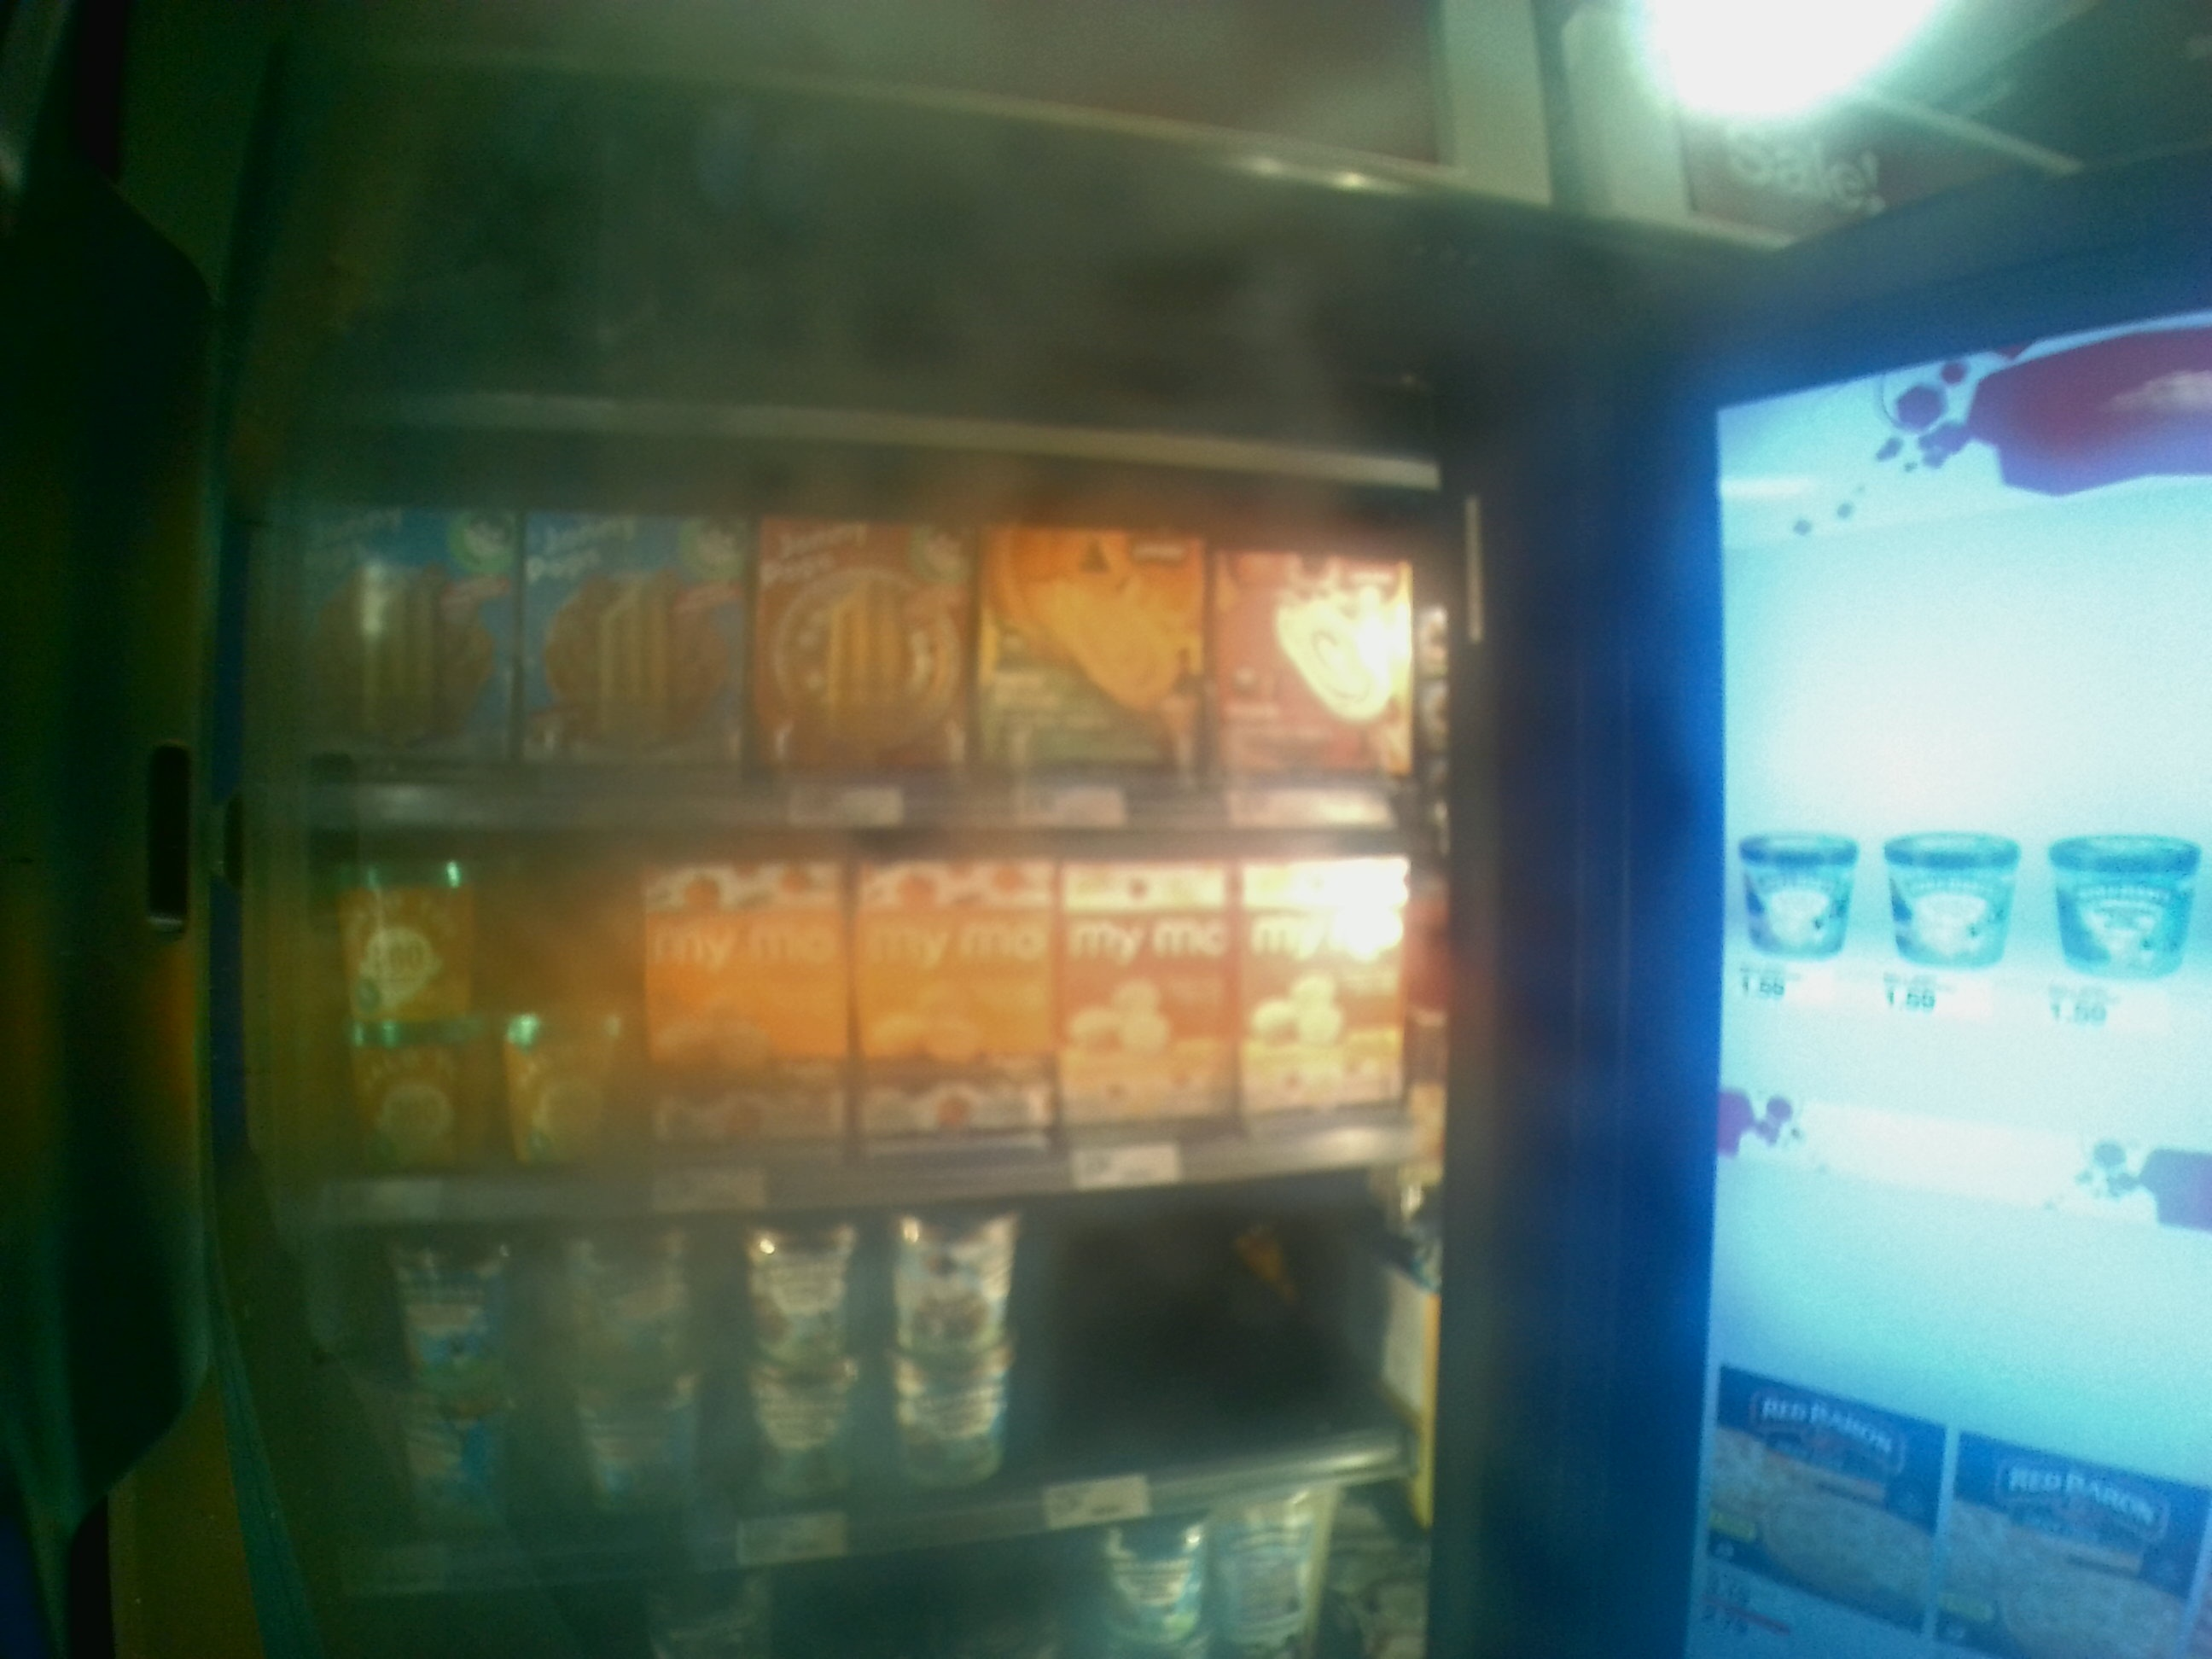shelf: (247, 396, 1456, 835), (254, 802, 1454, 1169), (239, 1187, 1446, 1506)
